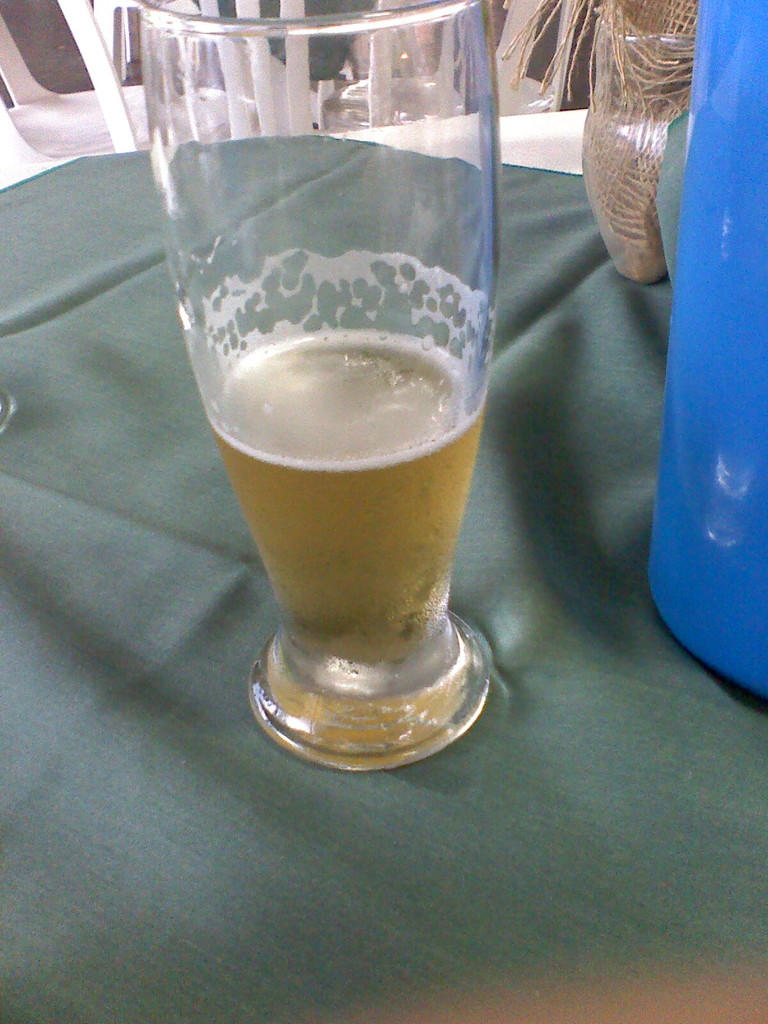Beer: (209, 326, 479, 662)
